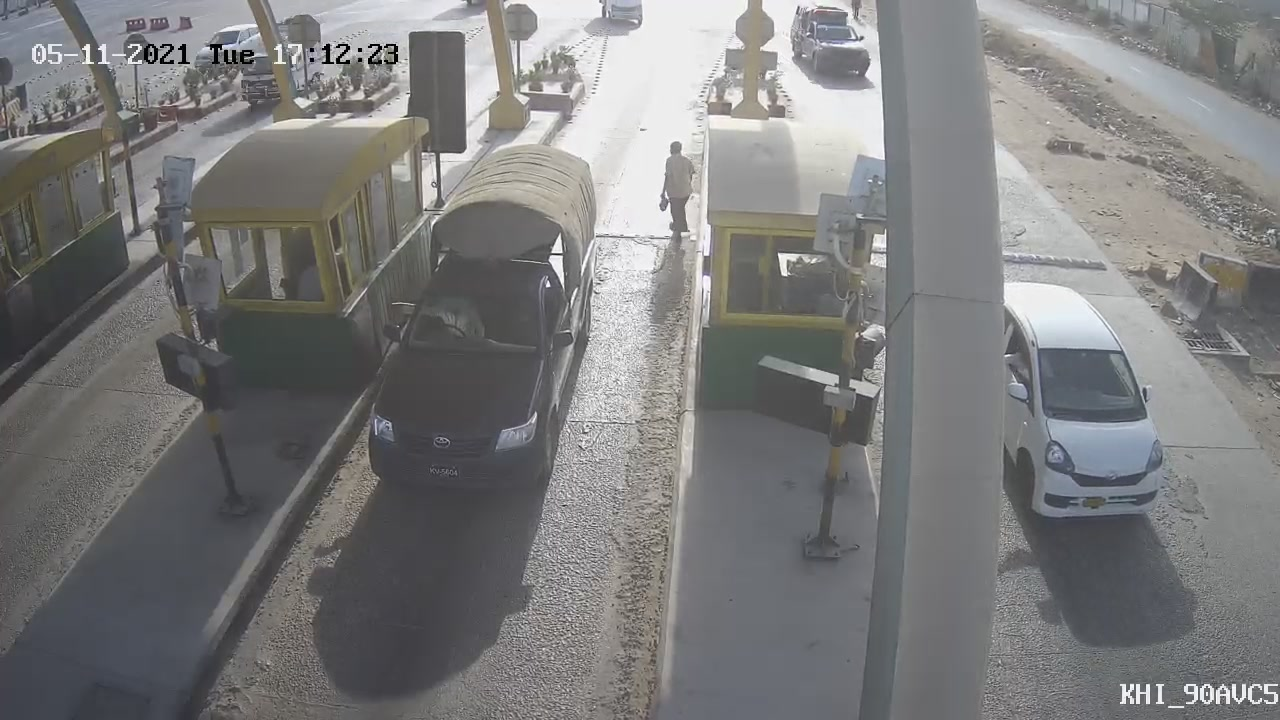F1: (338, 130, 626, 518)
